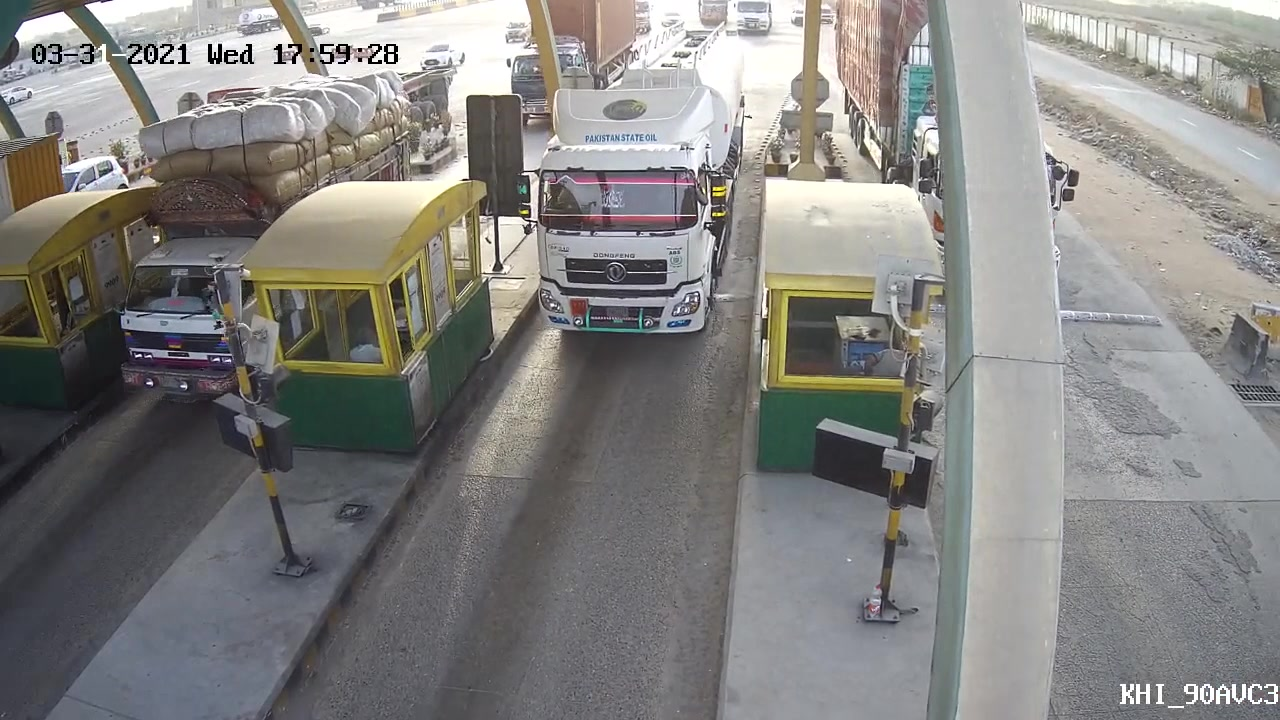F6: (520, 24, 752, 359)
